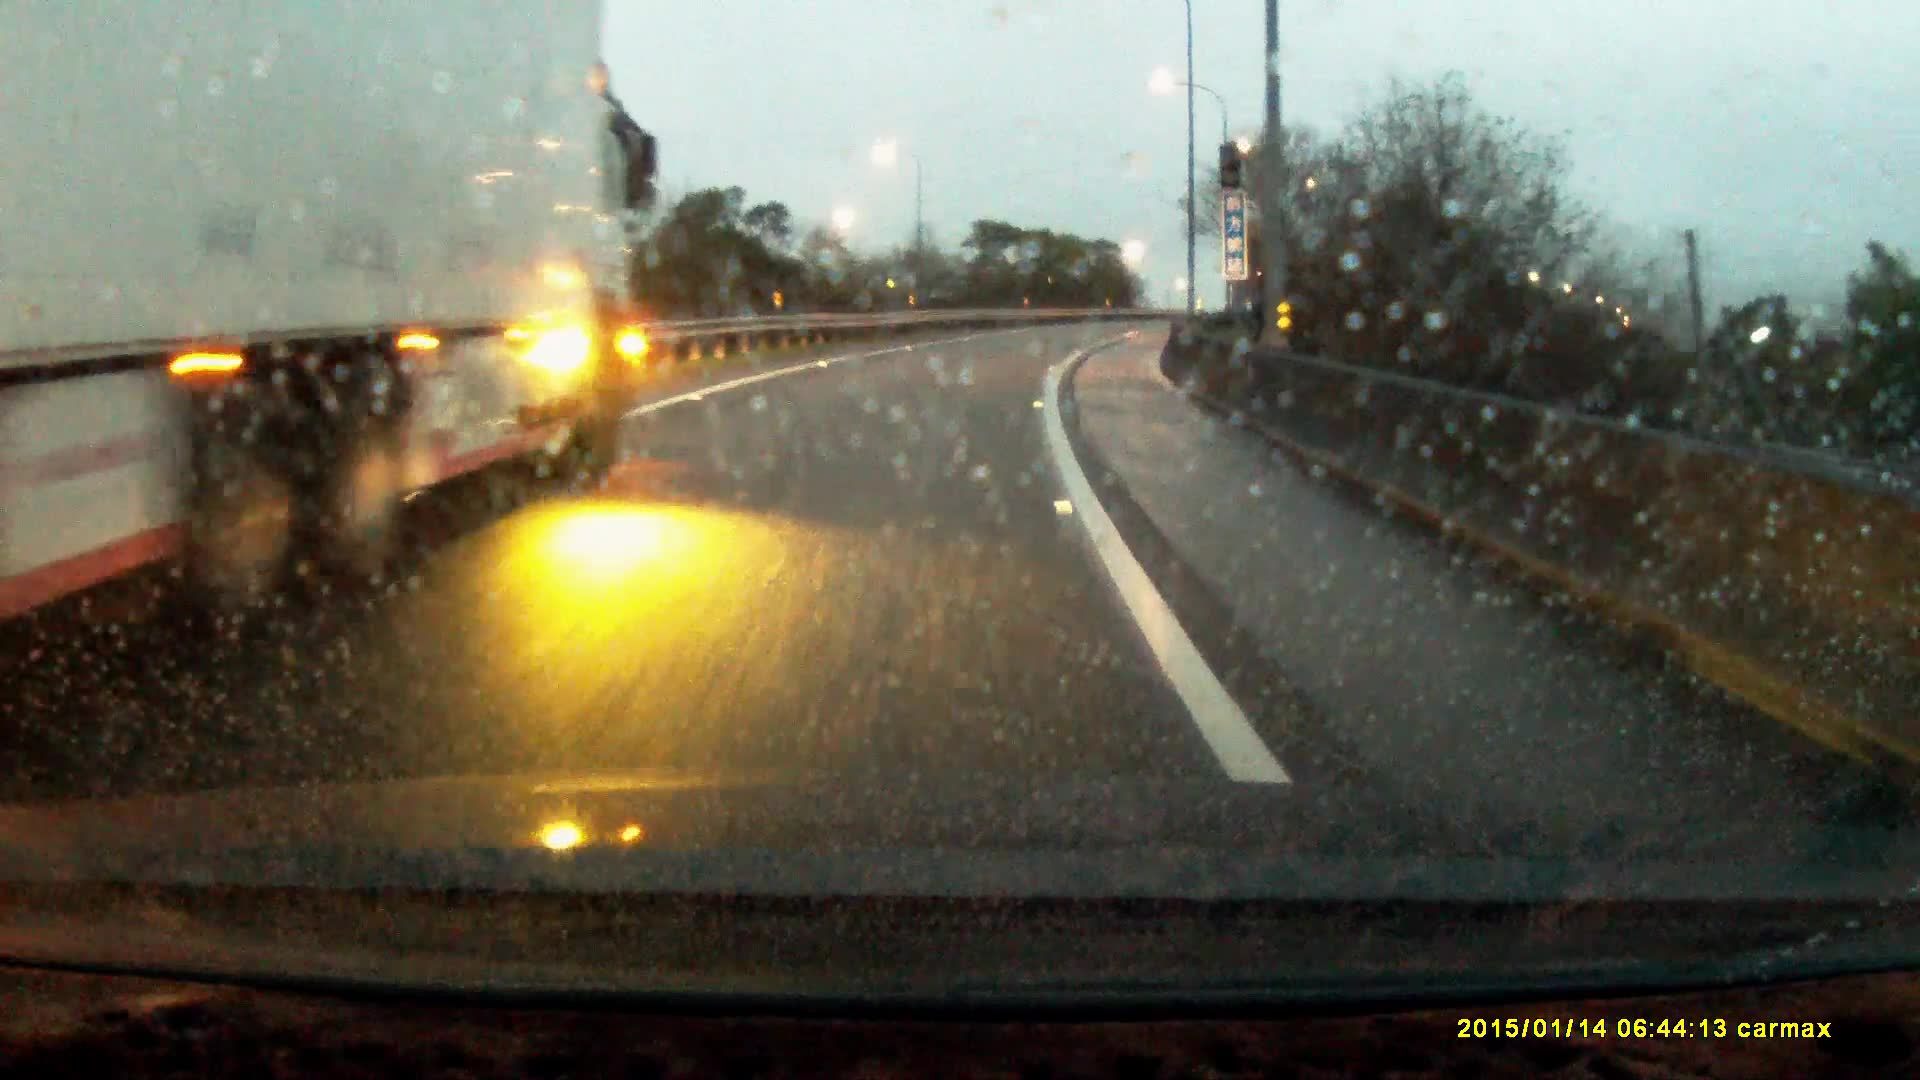vehicle: (1, 1, 659, 628)
